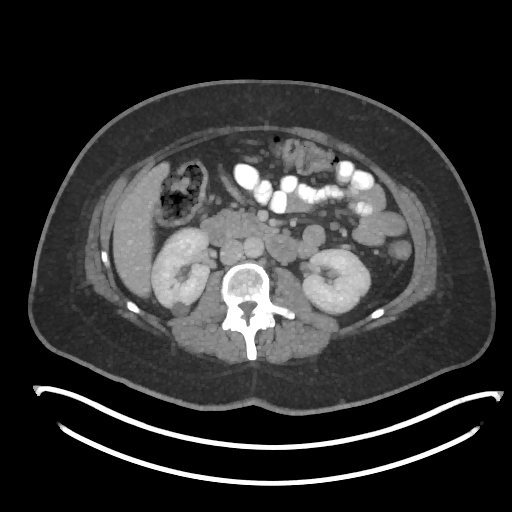Lesion: (168, 298, 191, 320)
